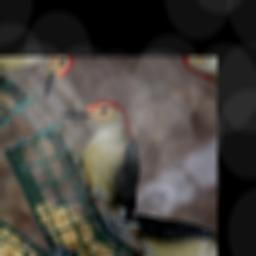Woodpecker: (28, 86, 185, 230)
